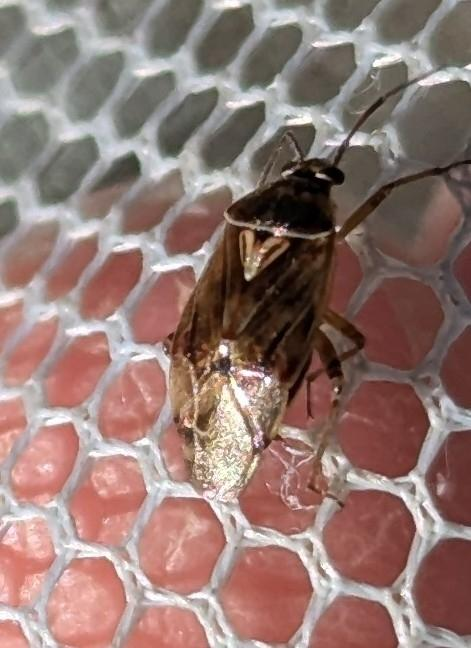plant_bugs: (111, 29, 471, 553)
